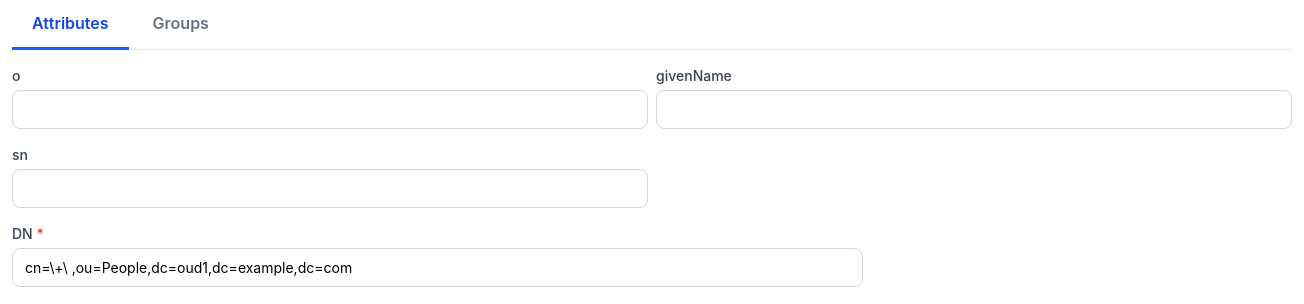
Scenario: UserForm editable DN (create mode) › composes the DN from a computed RDN via the dnTemplate
Type "00001" into the field labelled "o". click: (330, 110)
box: left=12, top=90, right=648, bottom=129
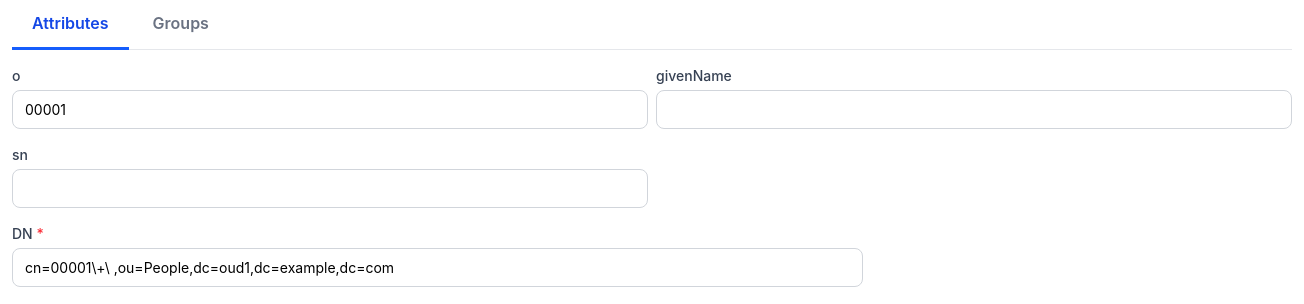
Type "Sanjay" into the field labelled "givenName". click: (974, 110)
box: left=656, top=90, right=1292, bottom=129
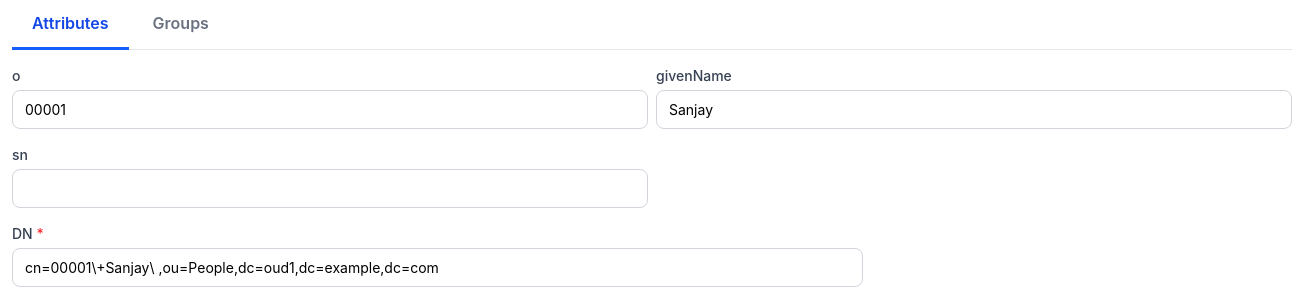
Type "Mishra" into the field labelled "sn". click: (330, 188)
box: left=12, top=169, right=648, bottom=208
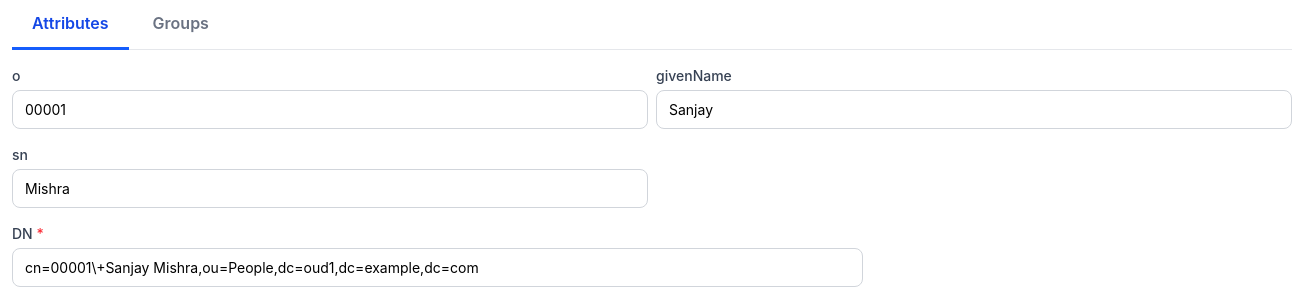
Check: the field labelled "DN *" holds "cn=00001\\+Sanjay Mishra,ou=People,dc=oud1,dc=example,dc=com", box left=12, top=248, right=863, bottom=287
